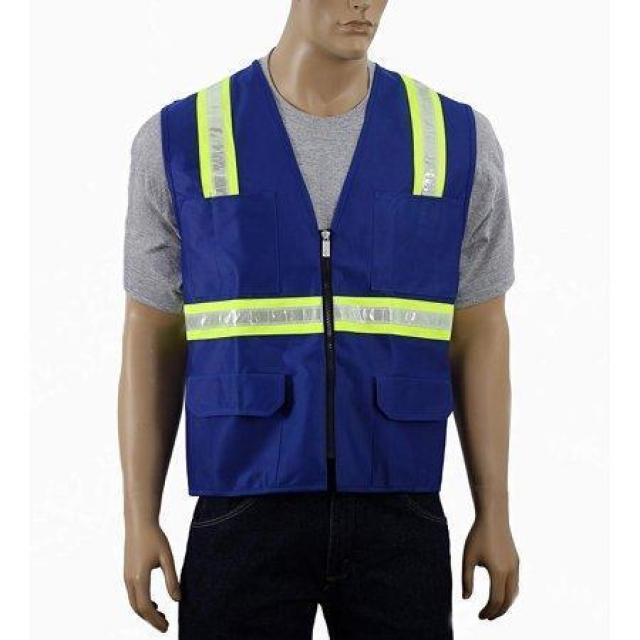Vest: (160, 60, 476, 498)
